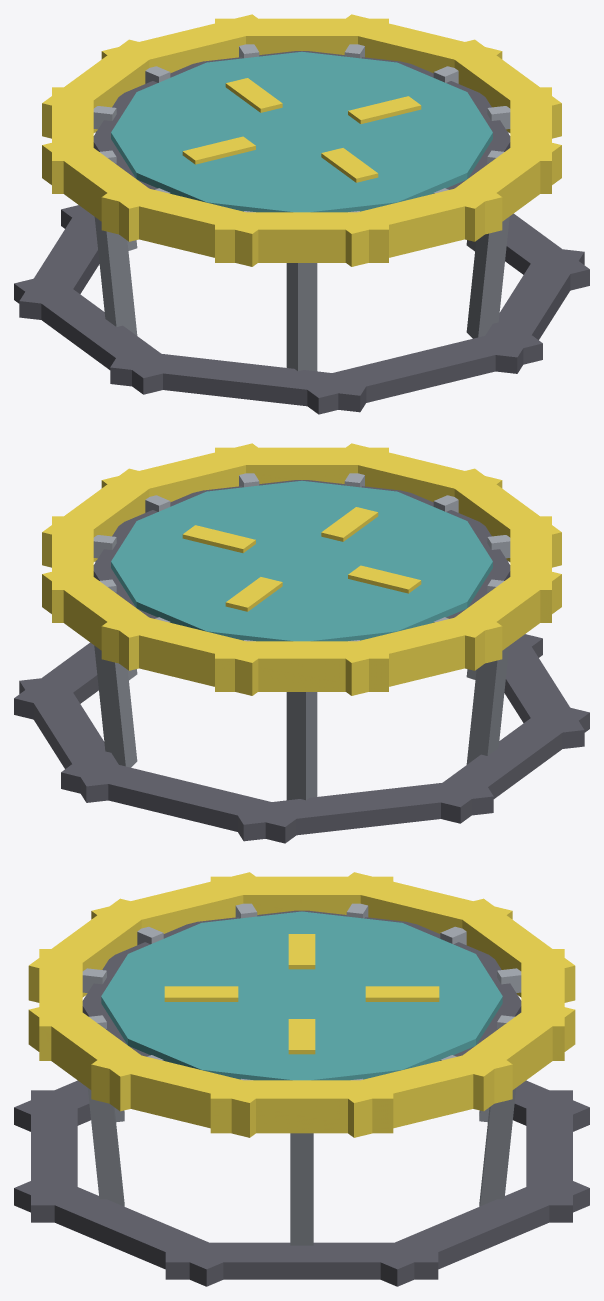
File: trampoline.glb
The picture shows the model from 3 angles, top to bottom: view 1: azimuth 30°, elevation 25°; view 2: azimuth 150°, elevation 25°; view 3: azimuth 270°, elevation 25°; orthographic projection. The views are drawn at different scales.
Visible parts, largest first — view 1: trampoline; view 2: trampoline; view 3: trampoline.
Part boxes in pixels (bbox=[...]): trampoline: bbox=[14, 14, 589, 414]; trampoline: bbox=[14, 443, 589, 843]; trampoline: bbox=[14, 872, 589, 1286].
Size of the model in its own units: 1.5 by 0.5141 by 1.5.
